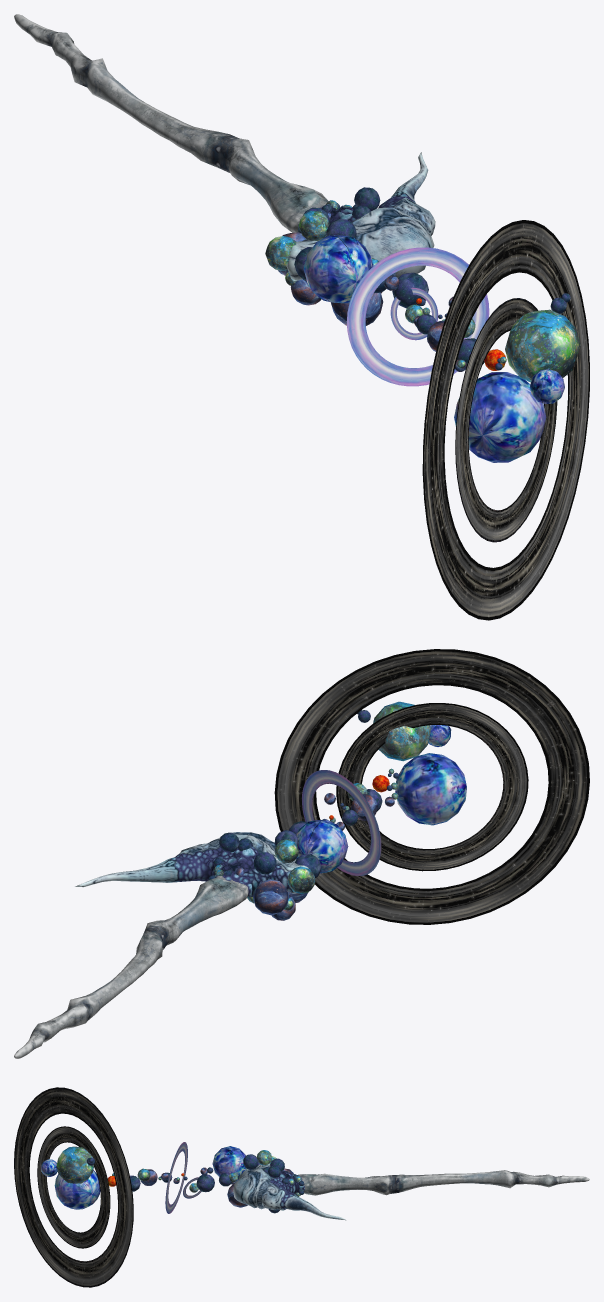
Rendered from bastardsstars.fbx.
3 views of the same model, one above another, from view 1: azimuth 30°, elevation 25°; view 2: azimuth 150°, elevation 25°; view 3: azimuth 270°, elevation 25° (orthographic). The views are drawn at different scales.
Parts seen in each view (by area): view 1: WP_A_1253.003, WP_A_1253.002, WP_A_1253.001; view 2: WP_A_1253.003, WP_A_1253.002, WP_A_1253.001; view 3: WP_A_1253.003, WP_A_1253.001, WP_A_1253.002.
Part boxes in pixels (<box>): WP_A_1253.003: <box>346,220,589,620</box>; WP_A_1253.002: <box>265,187,580,462</box>; WP_A_1253.001: <box>14,14,435,280</box>; WP_A_1253.003: <box>274,649,589,924</box>; WP_A_1253.002: <box>208,701,466,920</box>; WP_A_1253.001: <box>14,832,308,1058</box>; WP_A_1253.003: <box>14,1087,201,1287</box>; WP_A_1253.001: <box>233,1163,589,1220</box>; WP_A_1253.002: <box>41,1146,304,1213</box>.
Bounding box in the file's own units: 42.68 × 45.43 × 129.
Materials: 3 (3 with a texture image).
